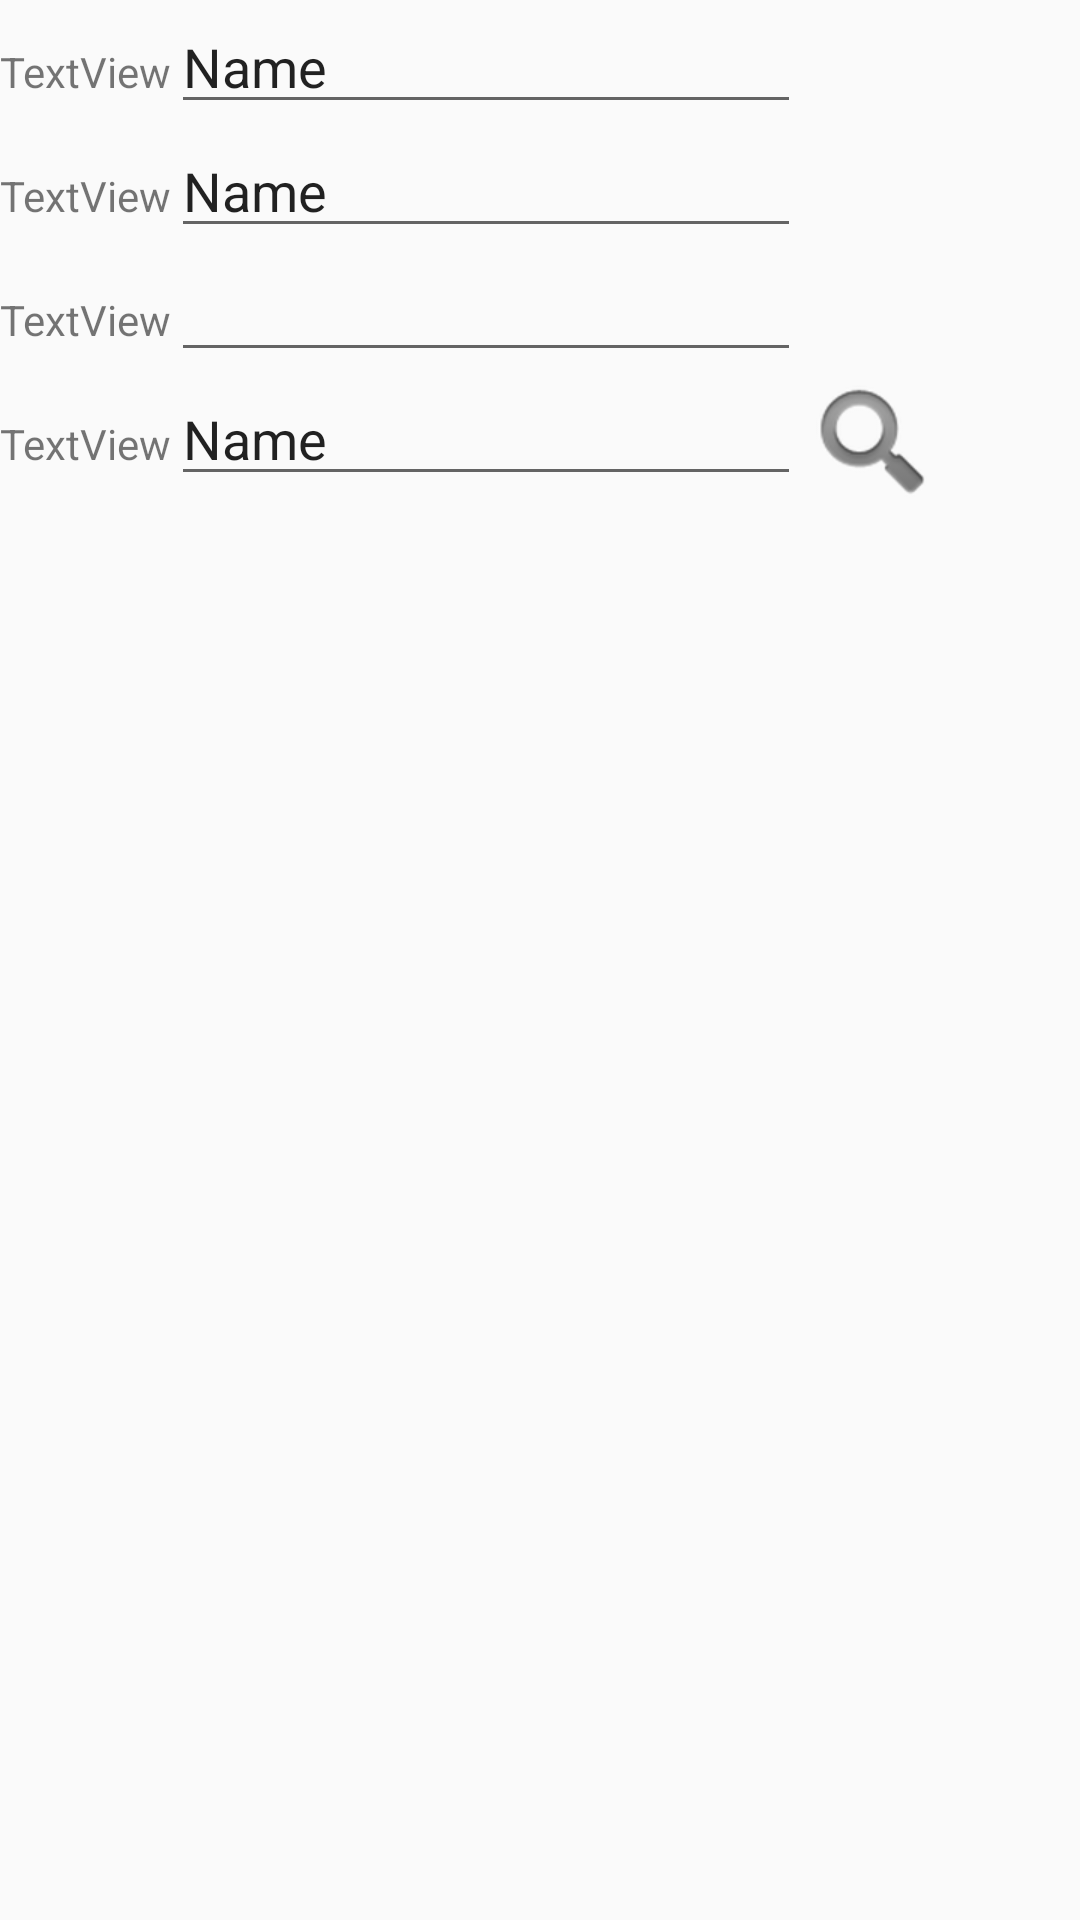

Where to tap for icons on this 1080*1920 app screen, as point (x, y):
search category: point (872, 441)
